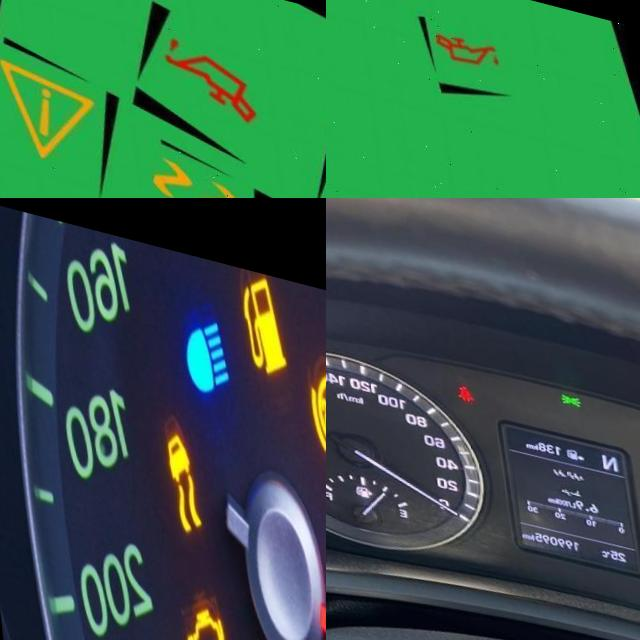Seat Belt: (451, 373, 470, 394)
